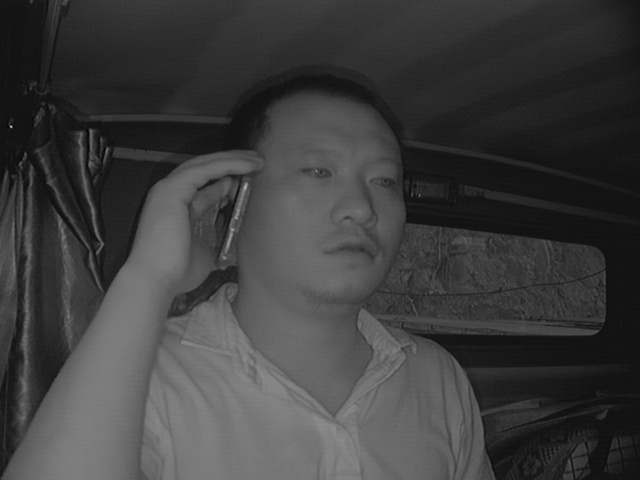hand: (140, 146, 261, 286)
